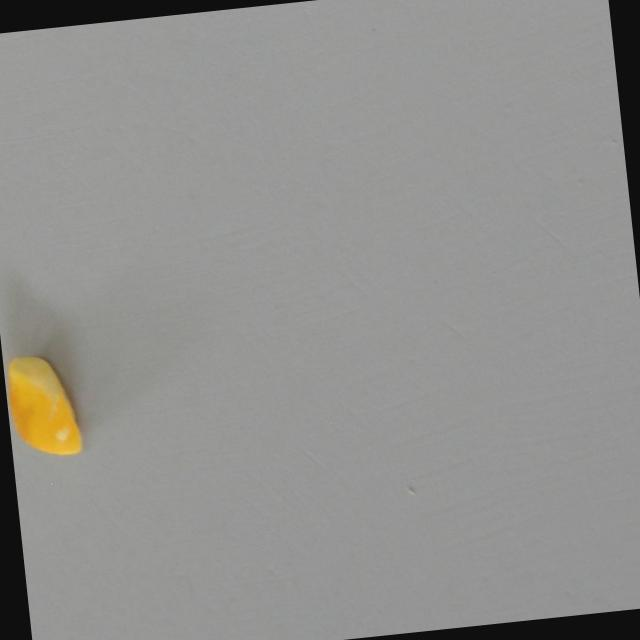dañado: (1, 342, 88, 465)
